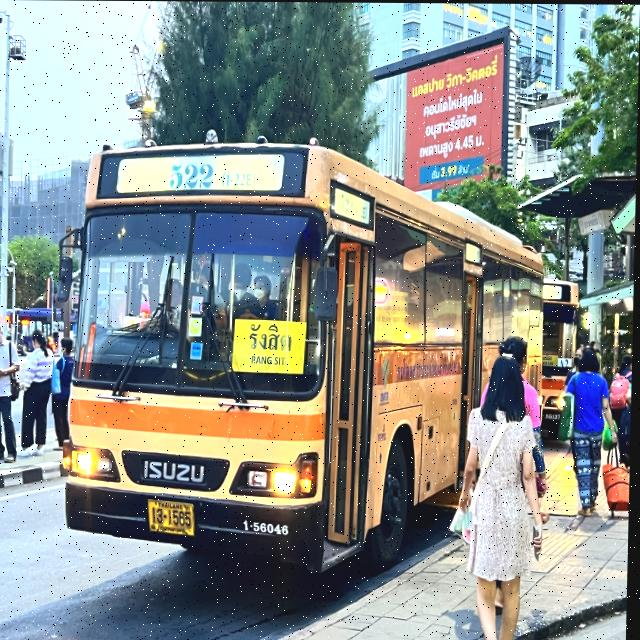BMTA-bus: (59, 121, 555, 588)
Bus-Line-Number: (161, 155, 262, 194)
Destination-Sign-Normal-Expressway: (233, 317, 308, 371)
